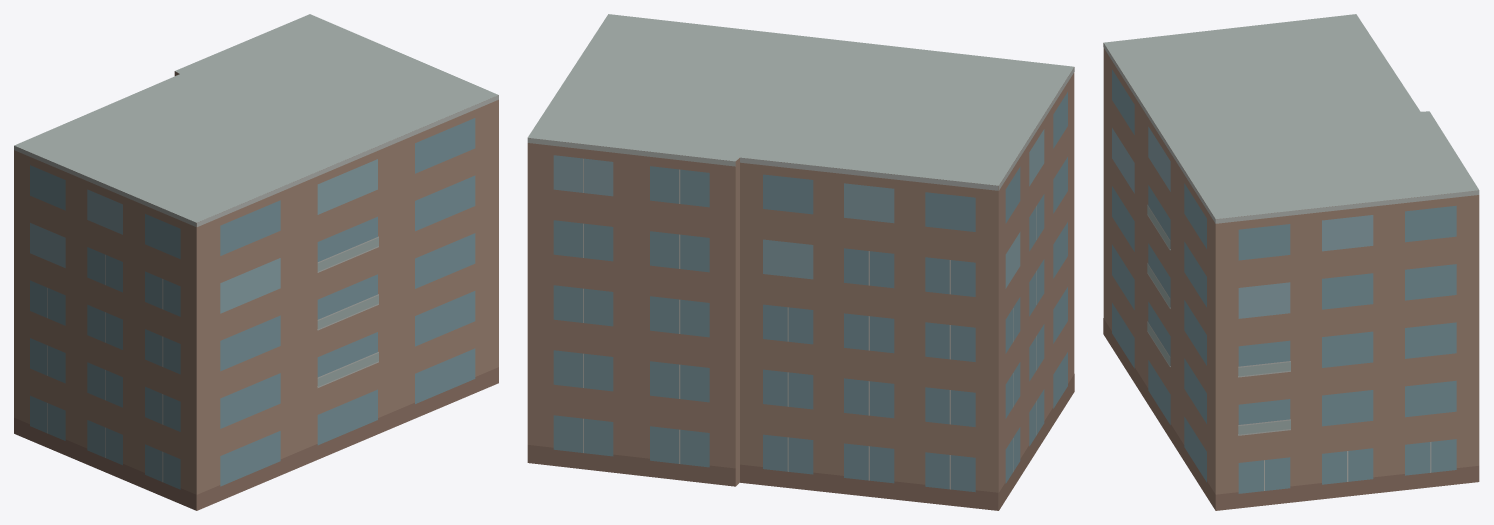
Rendered from survey-upis-32627492.glb.
3 renders of one model, left to right at view 1: azimuth 30°, elevation 25°; view 2: azimuth 150°, elevation 25°; view 3: azimuth 270°, elevation 25°, orthographic. The views are drawn at different scales.
Parts seen in each view (by area): view 1: survey-upis-32627492.tmp; view 2: survey-upis-32627492.tmp; view 3: survey-upis-32627492.tmp.
Boxes of the visible parts, x1,y1,x2,y2 form: survey-upis-32627492.tmp: (14,14,498,510); survey-upis-32627492.tmp: (527,14,1074,510); survey-upis-32627492.tmp: (1103,14,1479,510).
Size of the model in its own units: 23.4 by 15.5 by 18.12.
